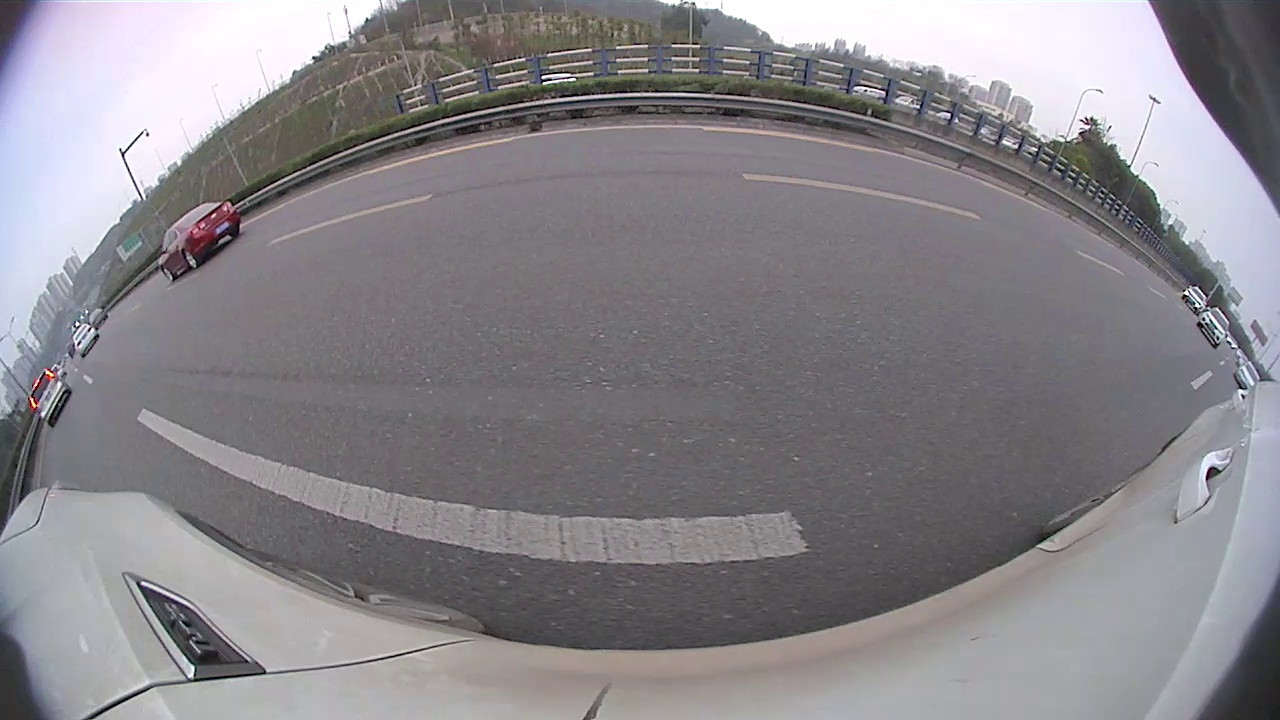bus: (904, 125, 1246, 343)
car: (1, 158, 420, 487), (585, 116, 763, 242), (777, 145, 966, 244), (452, 152, 560, 218), (546, 154, 589, 191)
front: (373, 215, 416, 272), (779, 188, 795, 211)
rear: (79, 339, 193, 469), (1080, 249, 1121, 297), (842, 197, 870, 235), (527, 183, 537, 211)
